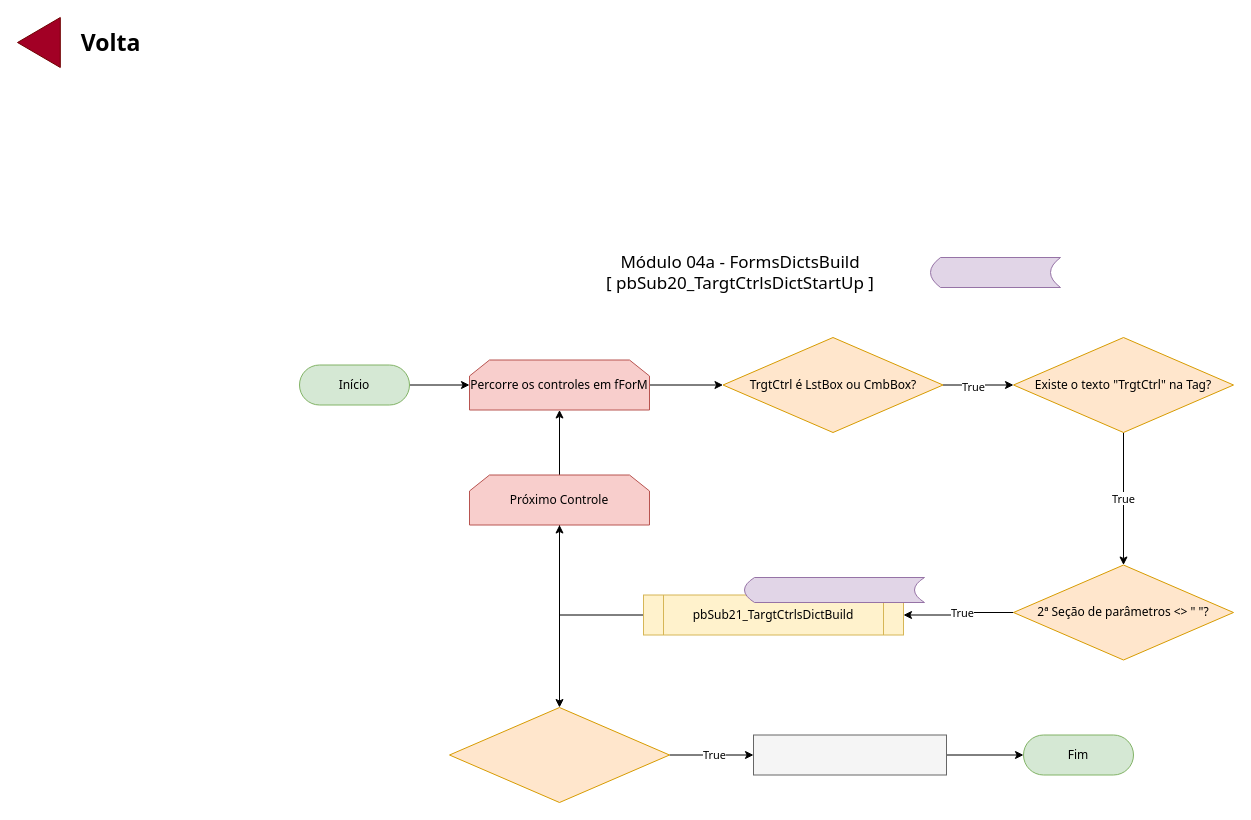
Some shapes in this 1251 by 820 pixel diagram are drawn without their labels. The centre of each missing label's shape, as x and y in pixels:
Define resultado da Função como Verdadeiro: point (849, 754)
fForM: point (995, 272)
O dictFormFilterGrps(sForM) é um objeto?: point (559, 754)
vTagSection, cListBox: point (834, 589)
